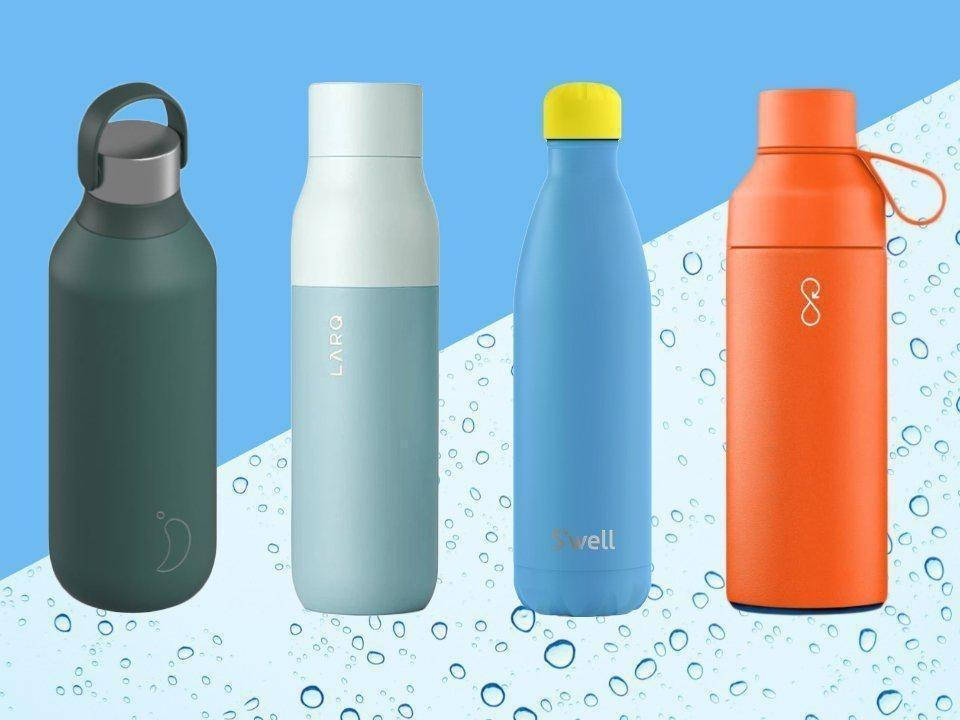gym bottle: (44, 80, 222, 615), (720, 84, 893, 621), (285, 78, 446, 621), (507, 78, 658, 621)
